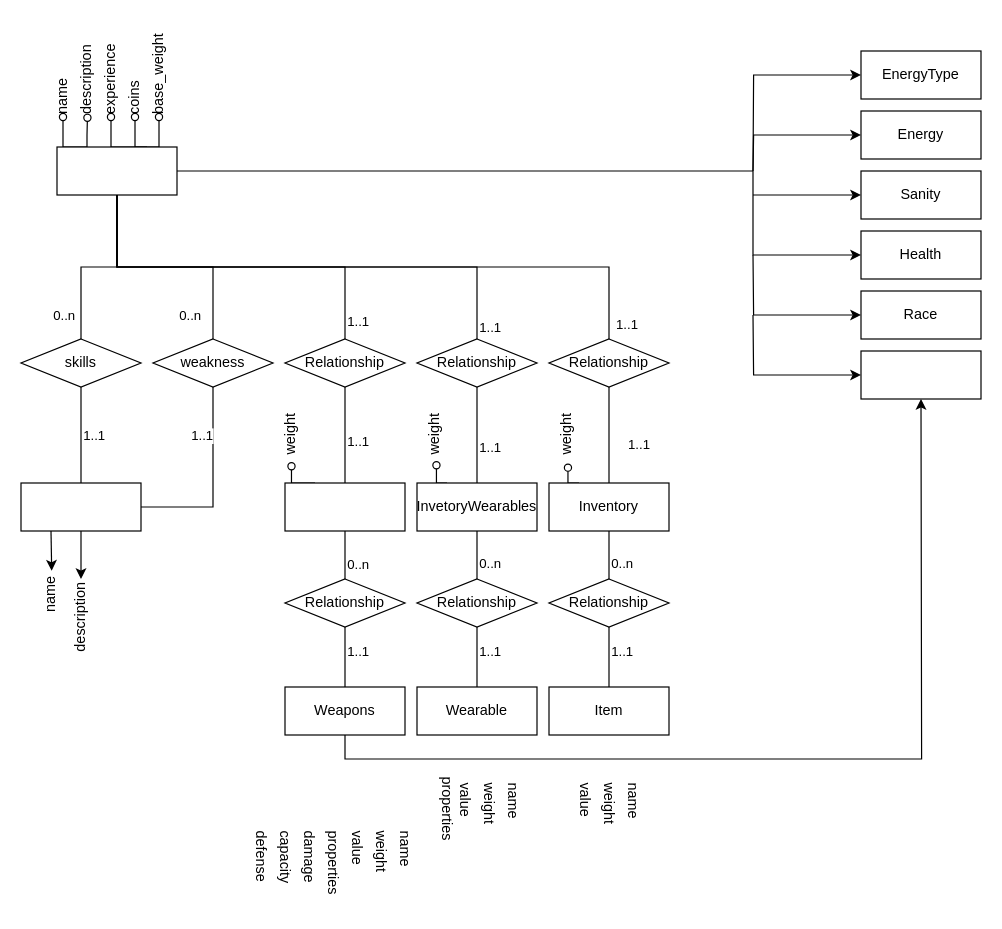
Image size: 1002x929. Some labels were removed from this diagram. The centre of each missing label's shape, as x and y in pixels:
"Aptitude" belongs at point 920,374.
"Attributes" belongs at point 80,506.
"InventoryWeapons" belongs at point 344,506.
"Personaje" belongs at point 116,170.
